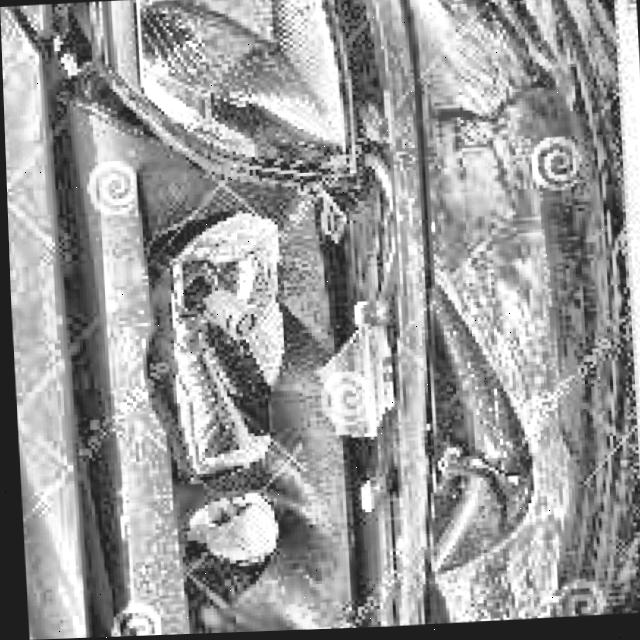head_lamp: (160, 158, 387, 634)
